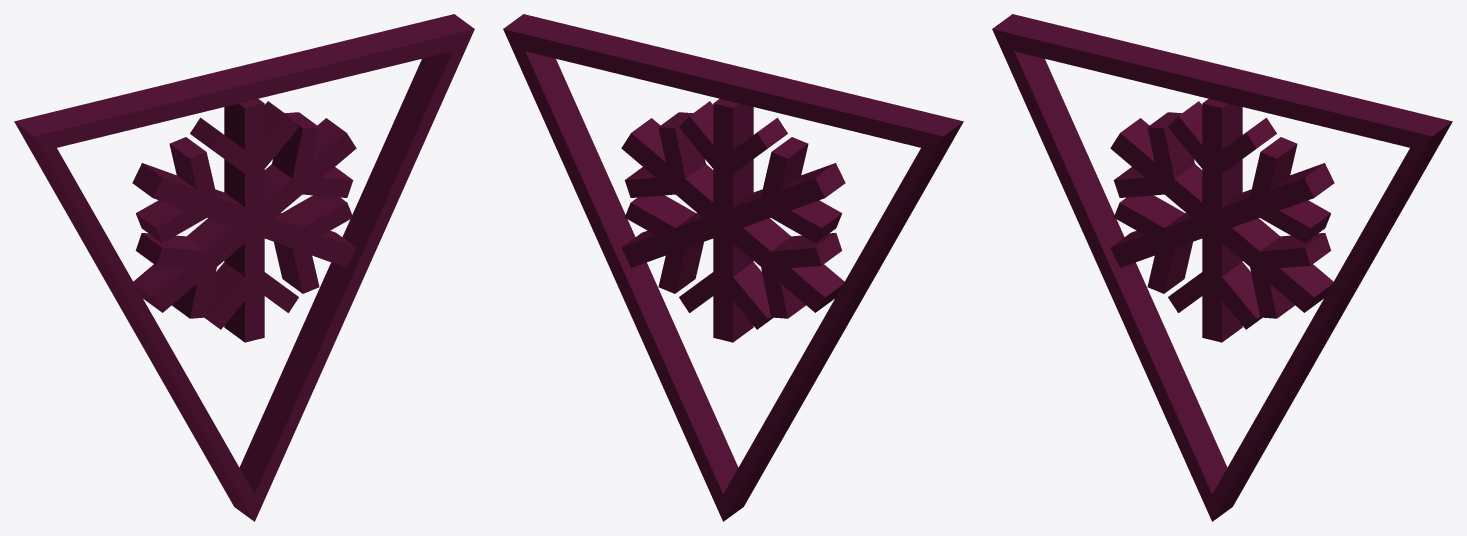
File: Freeze.fbx
3 renders of one model, left to right at view 1: azimuth 30°, elevation 25°; view 2: azimuth 150°, elevation 25°; view 3: azimuth 330°, elevation 25°, orthographic.
Visible parts, largest first — view 1: polySurface18; view 2: polySurface18; view 3: polySurface18.
Boxes of the visible parts, <box> form: polySurface18: <box>14,14,474,521</box>; polySurface18: <box>503,14,963,521</box>; polySurface18: <box>992,14,1452,521</box>.
Size of the model in its own units: 2.47 by 2.36 by 0.2.
